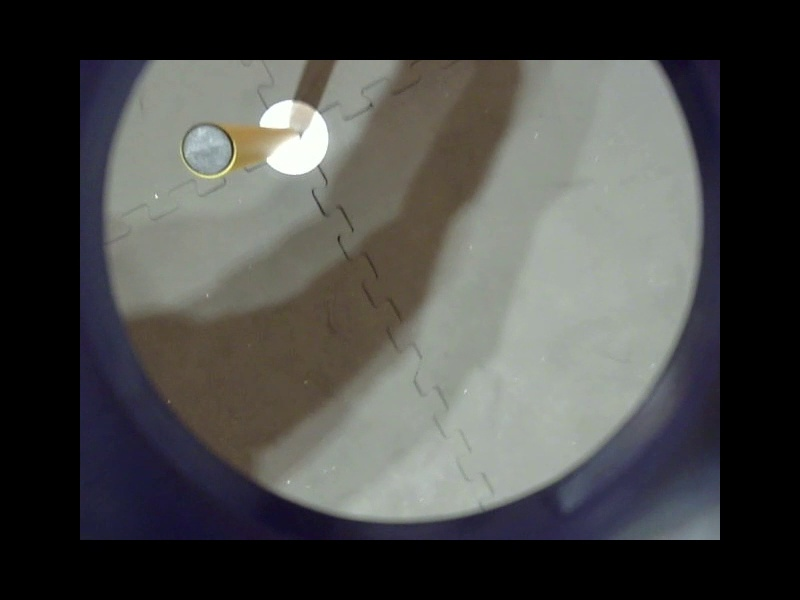tip: (177, 119, 250, 181)
